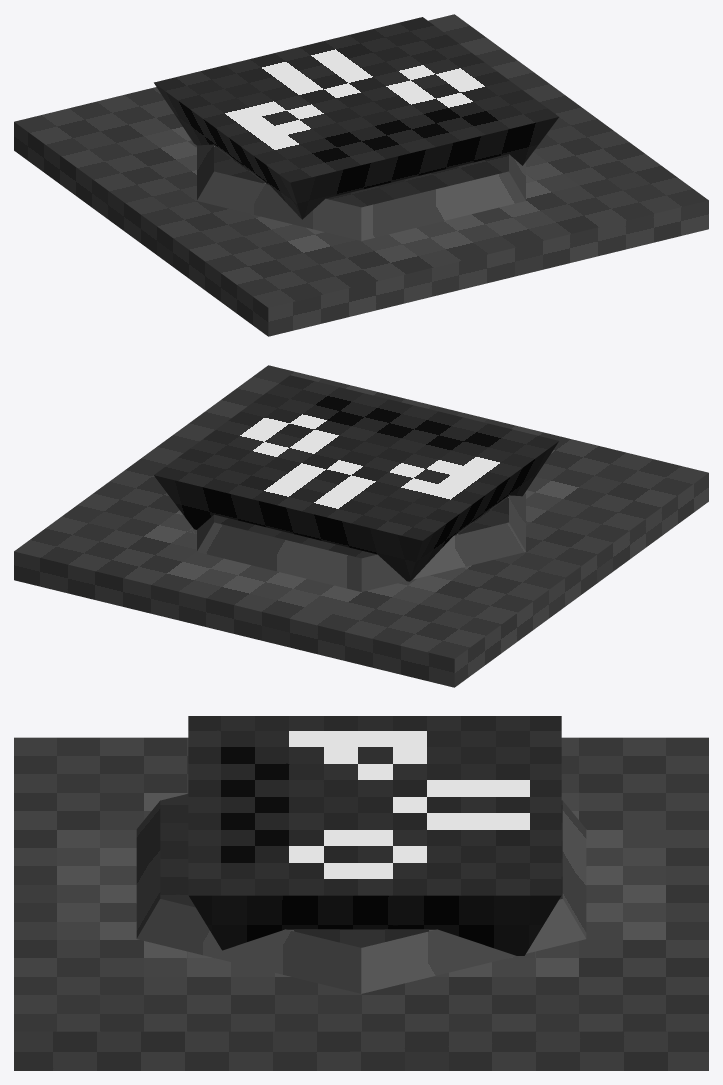
Rendered from Gates.glb.
3 renders of one model, top to bottom at view 1: azimuth 30°, elevation 25°; view 2: azimuth 150°, elevation 25°; view 3: azimuth 270°, elevation 25°, orthographic. The views are drawn at different scales.
Parts seen in each view (by area): view 1: SevenSegmentDisplay, SoundGenerator, MemoryBank; view 2: SevenSegmentDisplay, SoundGenerator, MemoryBank; view 3: SevenSegmentDisplay, SoundGenerator, MemoryBank.
Boxes of the visible parts, x1,y1,x2,y2 form: SevenSegmentDisplay: (14,14,708,336); SoundGenerator: (154,17,558,219); MemoryBank: (197,144,525,240); SevenSegmentDisplay: (14,365,708,687); SoundGenerator: (154,375,558,581); MemoryBank: (197,492,525,591); SevenSegmentDisplay: (14,737,708,1070); SoundGenerator: (188,716,561,955); MemoryBank: (136,794,586,993).
Size of the model in its own units: 1 by 0.1876 by 1.
Materials: 1 (1 with a texture image).
